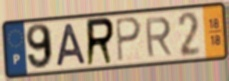2: (175, 11, 202, 59)
9: (25, 22, 55, 72)
A: (55, 22, 88, 68)
P: (114, 16, 143, 64)
R: (85, 16, 116, 69), (143, 15, 174, 59)
